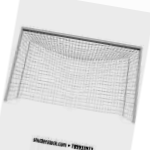goals: (2, 25, 143, 124)
